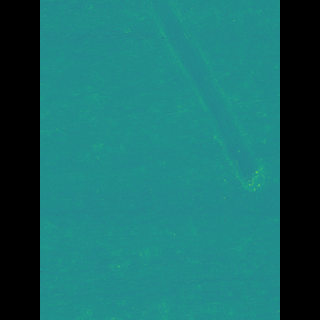Loch: (147, 0, 240, 193)
